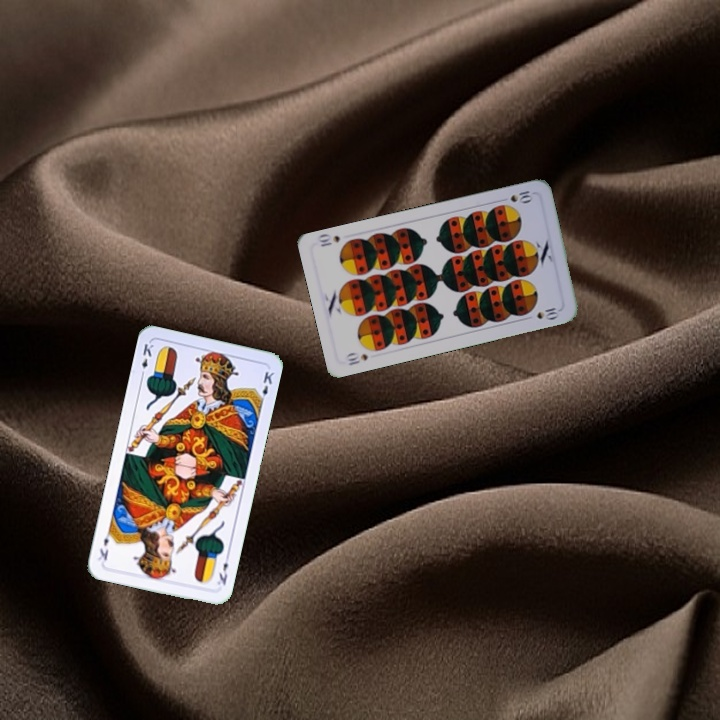EK: (137, 339, 156, 380), (213, 550, 232, 587)
S10: (496, 186, 536, 206), (342, 349, 370, 368)
